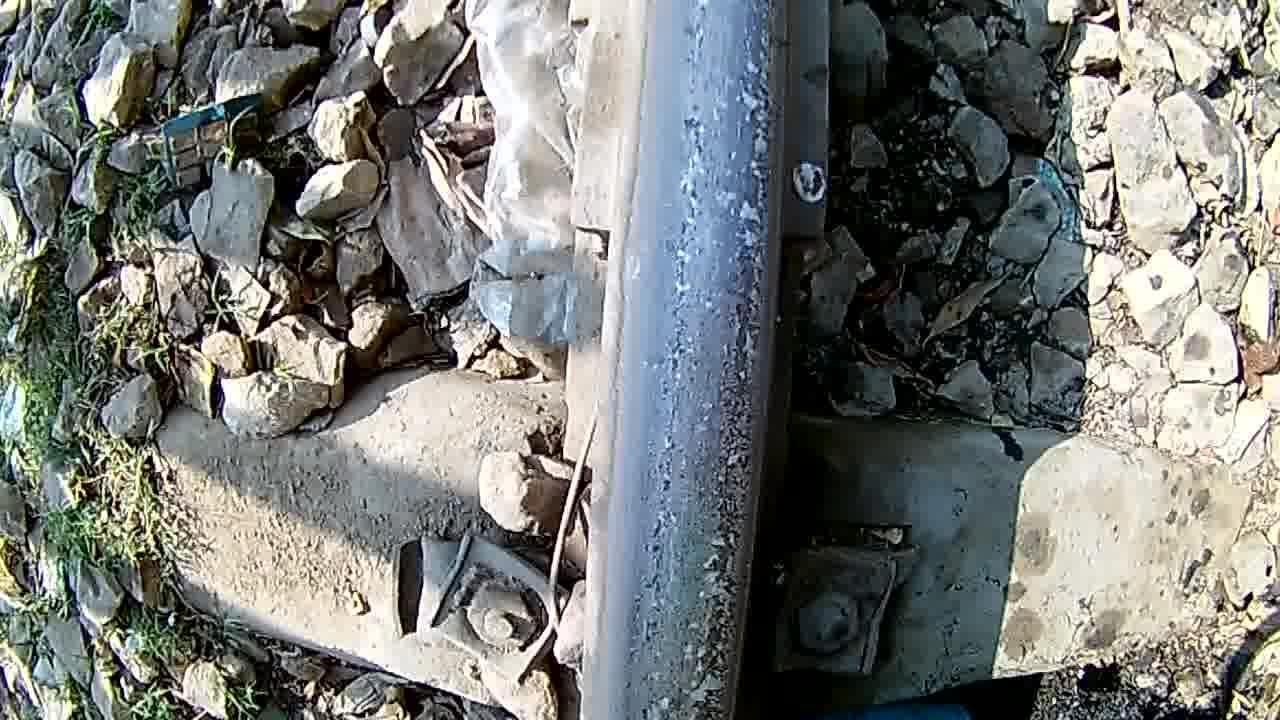crack: (594, 9, 783, 720)
